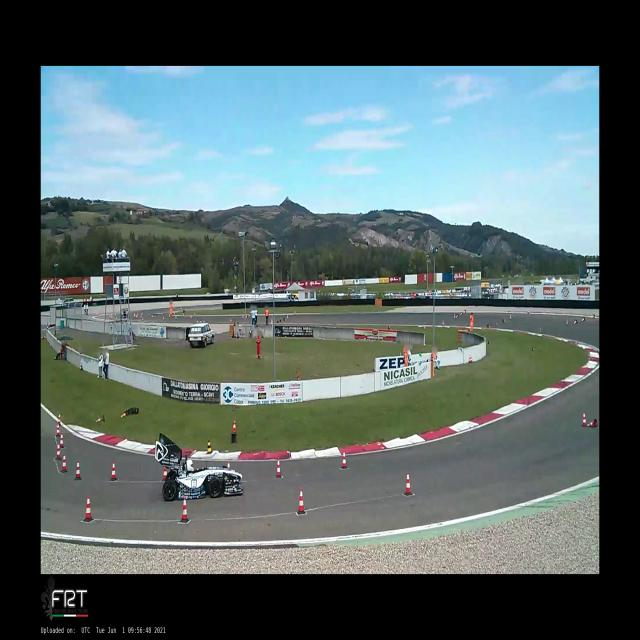large_orange_cone: (82, 495, 92, 521), (180, 497, 190, 523), (296, 488, 306, 514), (403, 472, 413, 496), (108, 460, 118, 480), (74, 460, 82, 480), (60, 453, 68, 472), (340, 451, 348, 469), (276, 458, 282, 478), (55, 444, 62, 461), (587, 419, 598, 428), (162, 467, 167, 481), (232, 417, 236, 434), (582, 412, 586, 428), (60, 433, 64, 448), (56, 423, 60, 437), (57, 413, 61, 426), (227, 462, 230, 468)
unknown_cone: (206, 435, 213, 454)
